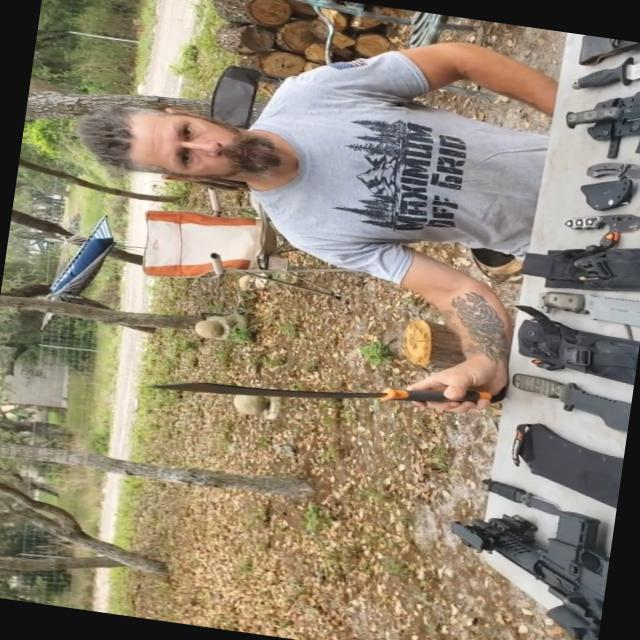knife: (139, 334, 409, 436), (480, 347, 636, 432), (508, 276, 639, 339), (448, 462, 573, 521), (546, 79, 639, 148), (569, 34, 639, 113), (561, 149, 639, 193), (559, 202, 639, 244)
